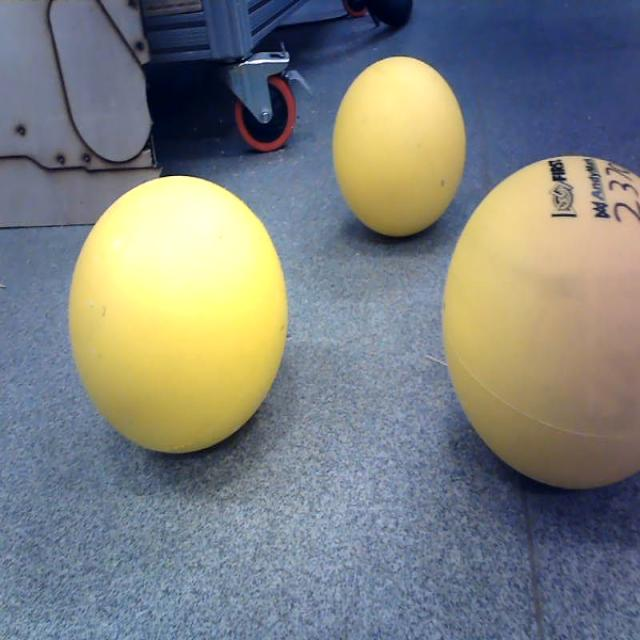Fuel: (443, 156, 640, 491), (70, 174, 288, 454), (334, 56, 467, 236)
